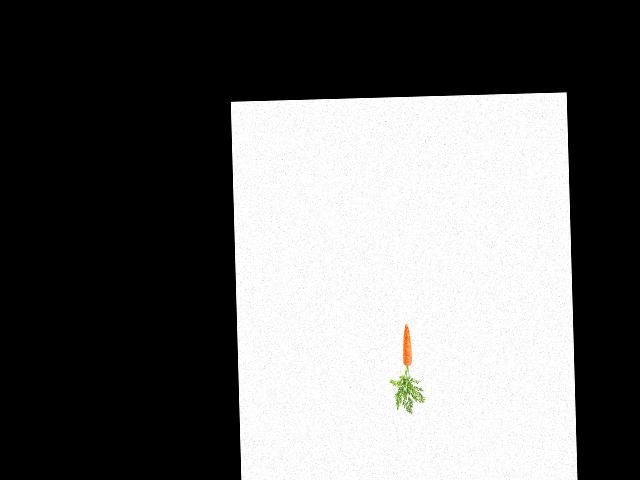carrot: (399, 321, 412, 367)
